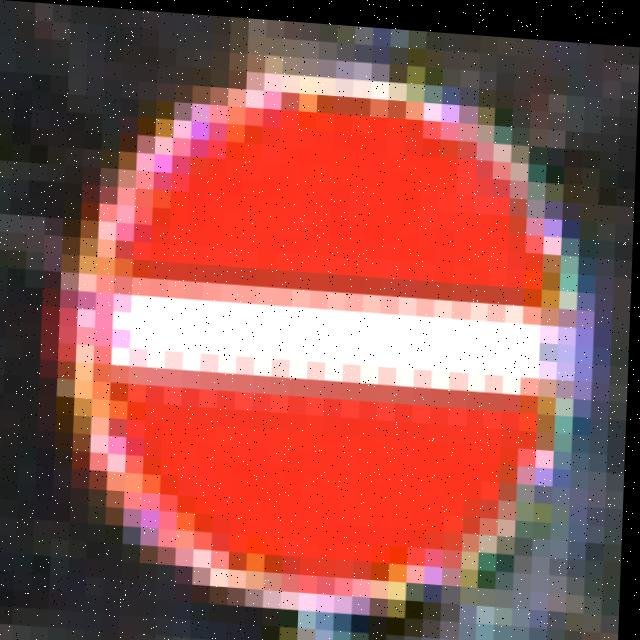road_rough: (68, 72, 577, 640)
